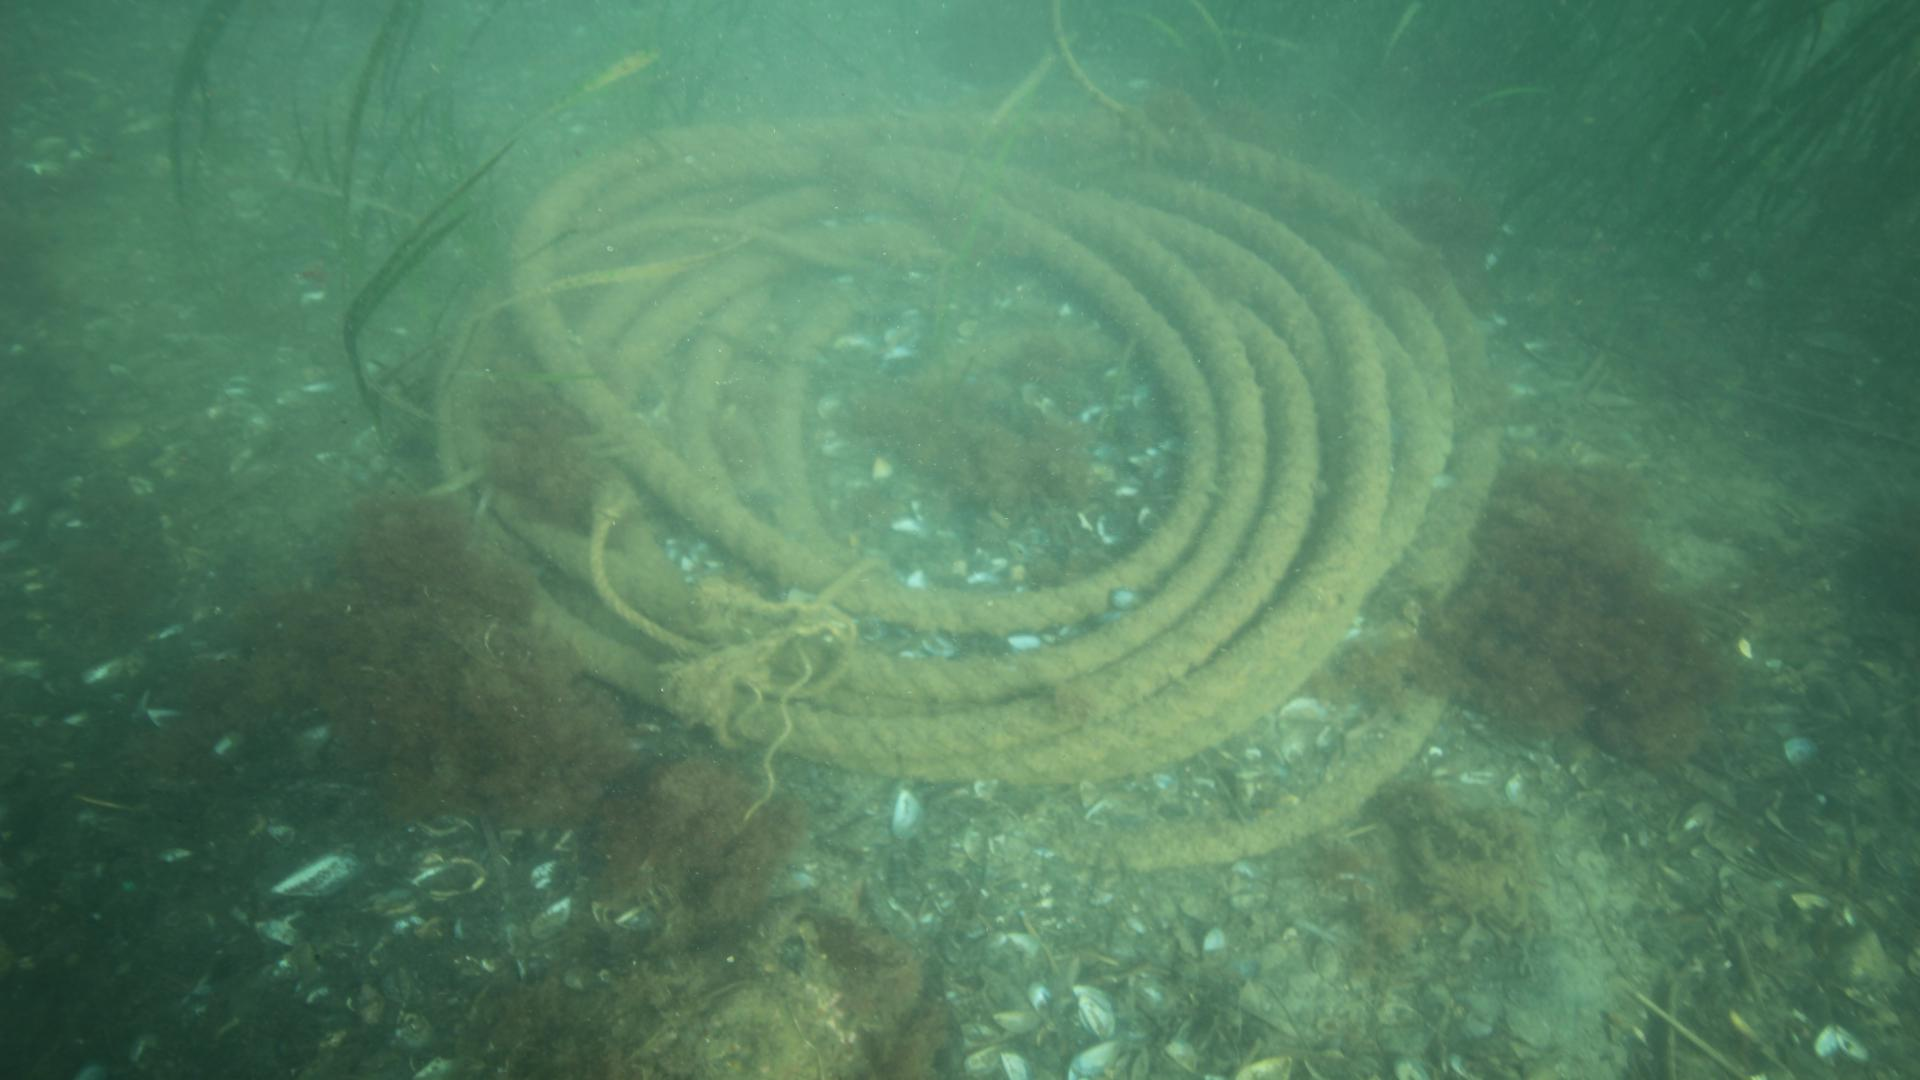bundle of ropes: (430, 113, 1501, 876)
